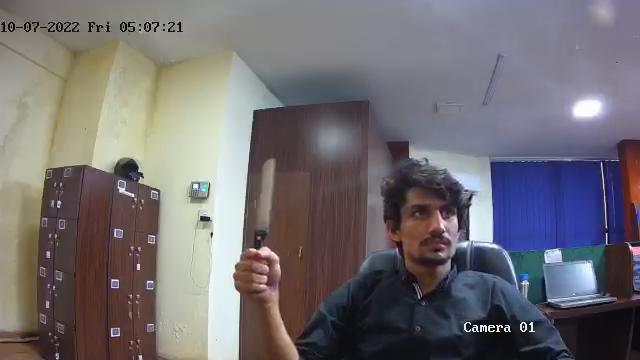knives: (250, 155, 277, 254)
